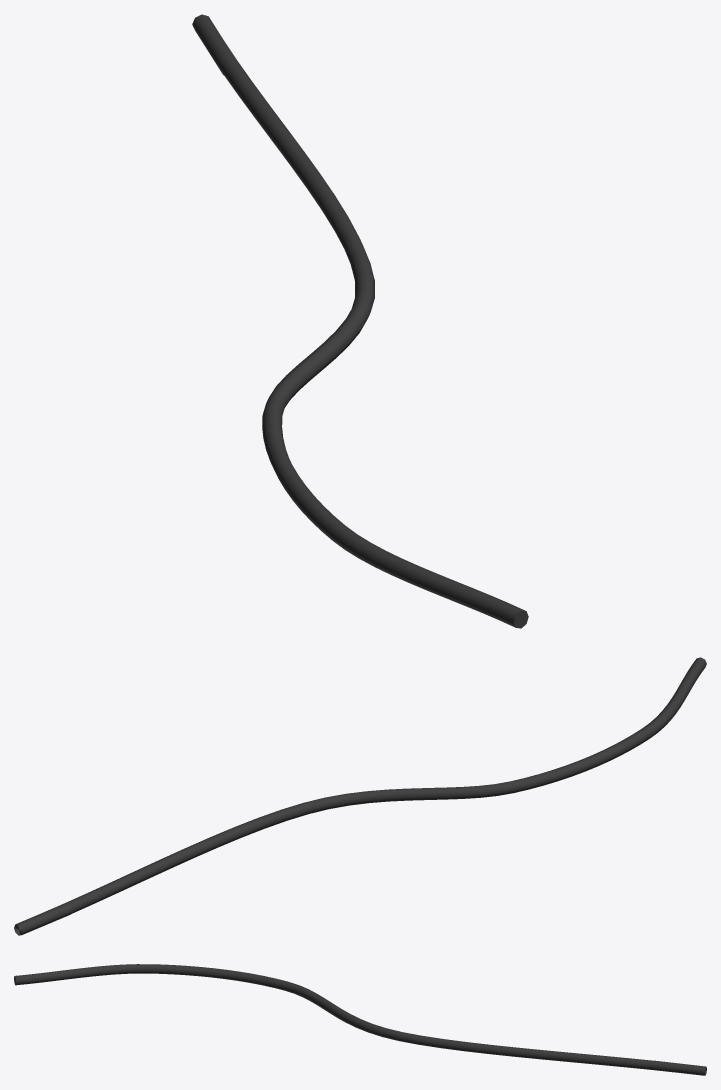
The model's file is SM_MERGED_BP_Cable2.FBX.
3 views of the same model, one above another, from view 1: azimuth 30°, elevation 25°; view 2: azimuth 150°, elevation 25°; view 3: azimuth 270°, elevation 25° (orthographic). The views are drawn at different scales.
Visible parts, largest first — view 1: SM_MERGED_BP_Cable2; view 2: SM_MERGED_BP_Cable2; view 3: SM_MERGED_BP_Cable2.
Part boxes in pixels (x1=…): SM_MERGED_BP_Cable2: x1=192, y1=14, x2=528, y2=628; SM_MERGED_BP_Cable2: x1=14, y1=657, x2=706, y2=935; SM_MERGED_BP_Cable2: x1=14, y1=964, x2=706, y2=1075.
Size of the model in its own units: 109 by 299 by 4.3.
